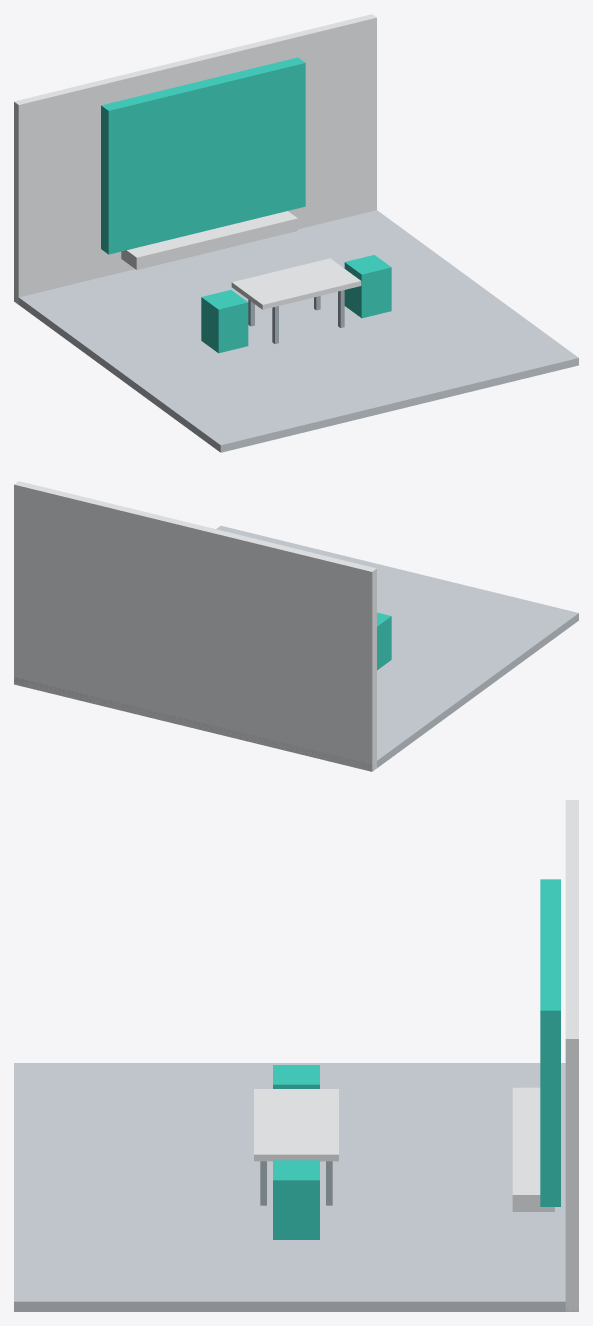
3 renders of one model, top to bottom at view 1: azimuth 30°, elevation 25°; view 2: azimuth 150°, elevation 25°; view 3: azimuth 270°, elevation 25°, orthographic. The views are drawn at different scales.
Parts seen in each view (by area): view 1: Exhibition Booth Concept; view 2: Exhibition Booth Concept; view 3: Exhibition Booth Concept.
Part boxes in pixels (<box>): Exhibition Booth Concept: <box>14,14,578,452</box>; Exhibition Booth Concept: <box>14,481,578,771</box>; Exhibition Booth Concept: <box>14,800,578,1311</box>.
Size of the model in its own units: 6 by 3.2 by 6.
